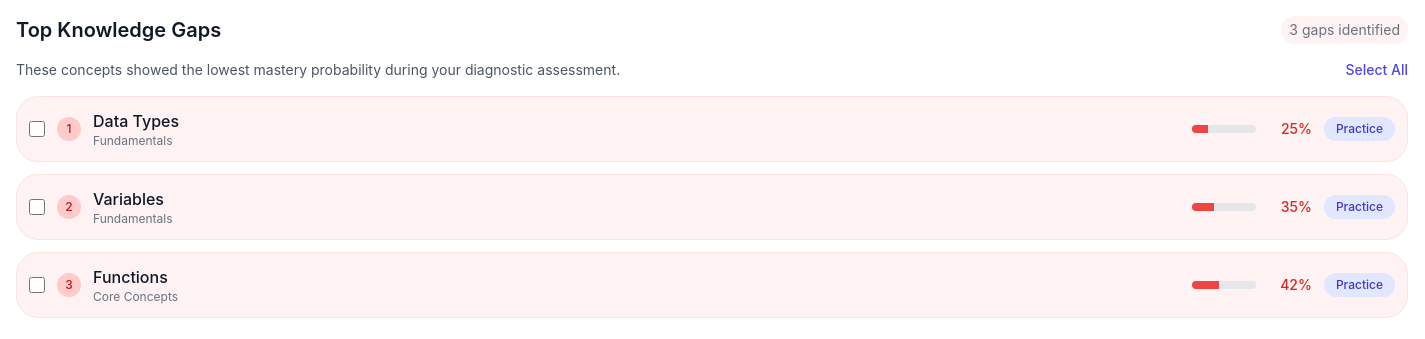
Test case: GapHighlights › Practice functionality › shows Practice Selected button when concepts are selected
expect the button "Practice Selected" is not shown: met
Select first checkbox
Click the checkbox named "Select Data Types for practice".
click(37, 129)  # box [29,121,45,137]
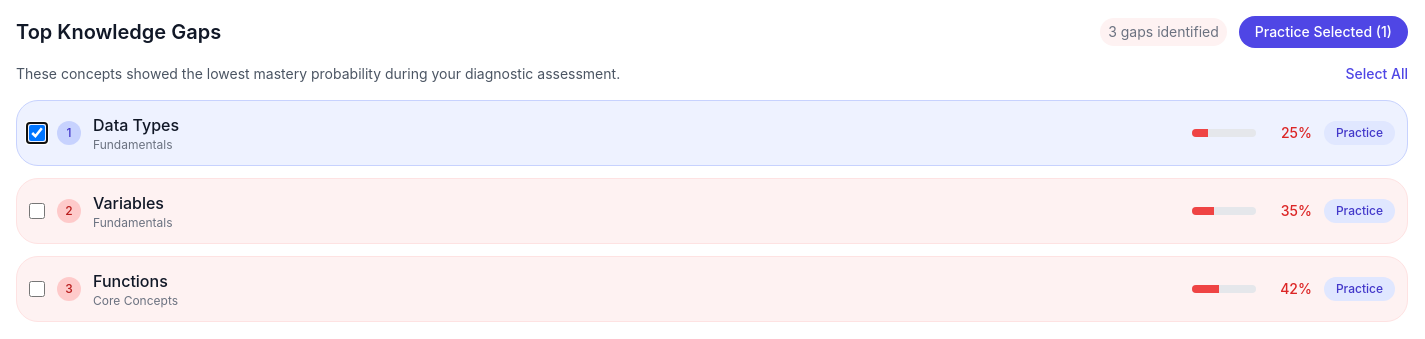
expect the button "Practice Selected (1)" is shown: met, box [1239,16,1408,48]
